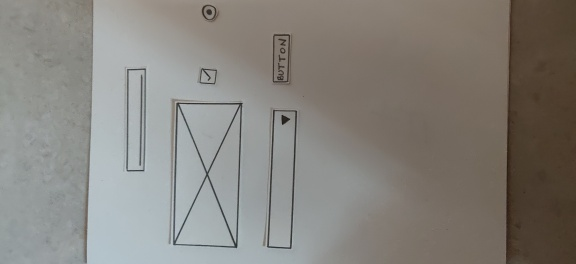button: (271, 34, 291, 89)
checkbox: (196, 67, 220, 87)
dropdown: (269, 106, 297, 254)
img: (175, 97, 241, 249)
radio: (199, 3, 220, 22)
text: (124, 67, 147, 172)
